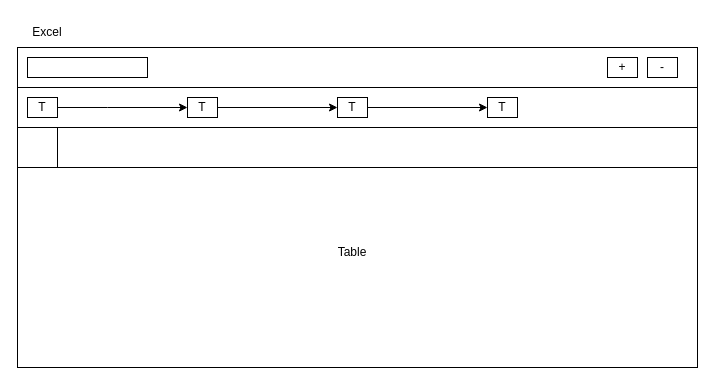
Image size: 715x385. Some labels were removed from this diagram. Each missing label, with the centre of its shape:
"fx" belongs at (37,147).
"Title" belongs at (87,67).
